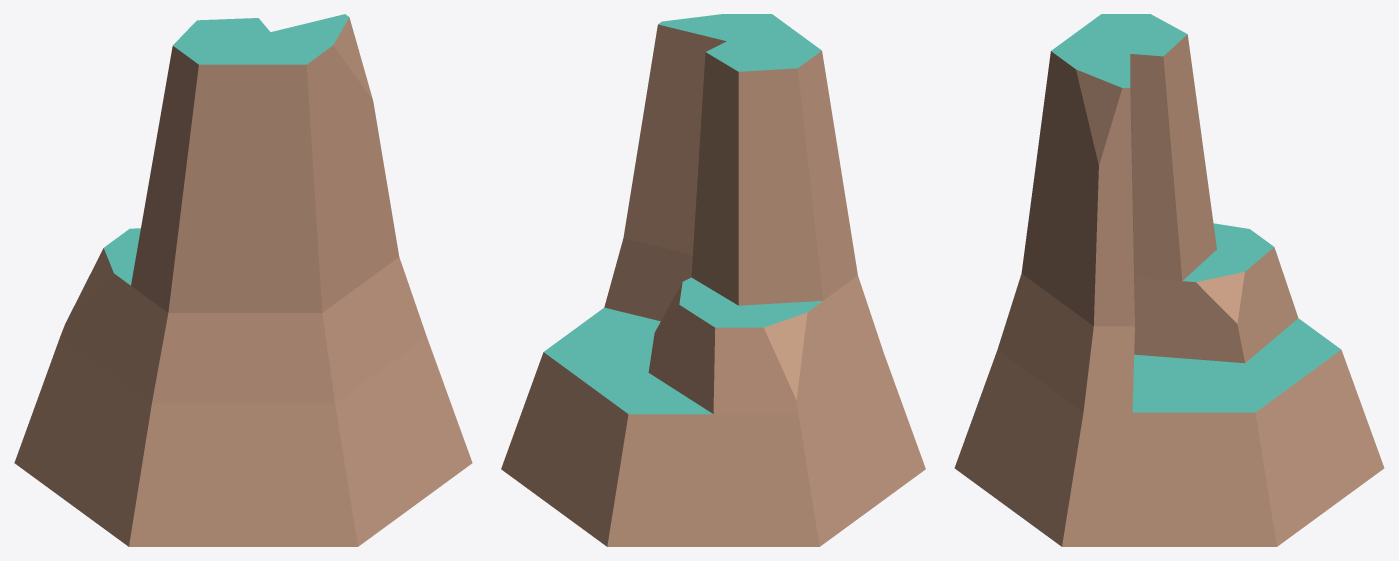
The model's file is rock_tallH.glb.
The picture shows the model from 3 angles, left to right: view 1: azimuth 30°, elevation 25°; view 2: azimuth 150°, elevation 25°; view 3: azimuth 270°, elevation 25°; orthographic projection. The views are drawn at different scales.
Visible parts, largest first — view 1: rock_tallH; view 2: rock_tallH; view 3: rock_tallH.
Boxes of the visible parts, x1,y1,x2,y2 form: rock_tallH: (14,14,472,546); rock_tallH: (501,14,925,546); rock_tallH: (954,14,1384,546).
Bounding box in the file's own units: 0.5749 × 0.7108 × 0.6639.
